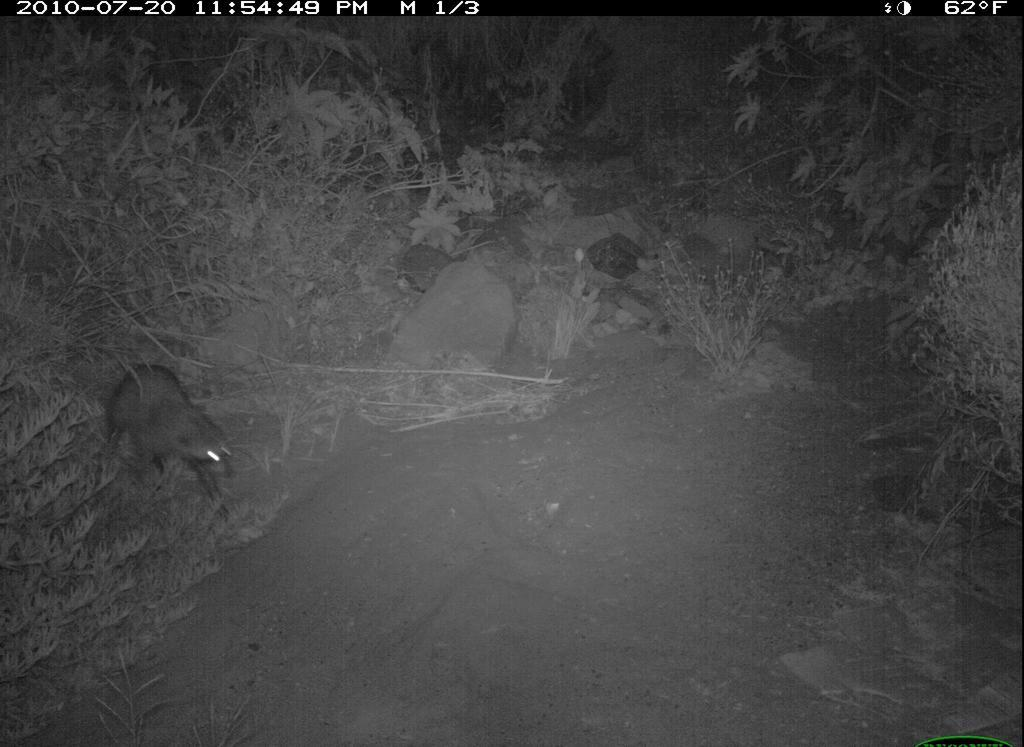raccoon: (99, 350, 245, 521)
